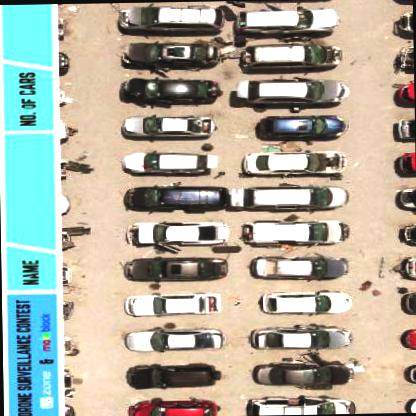car: (241, 2, 344, 38), (231, 182, 355, 210), (121, 73, 219, 107), (125, 254, 229, 282), (237, 78, 349, 104), (120, 3, 226, 30), (242, 218, 352, 244), (233, 5, 338, 32), (119, 42, 219, 70), (238, 40, 342, 66), (245, 150, 347, 176), (127, 360, 218, 388), (128, 219, 226, 245), (251, 254, 349, 280), (125, 184, 225, 209), (256, 113, 346, 140), (250, 362, 351, 386), (242, 394, 360, 414), (126, 326, 224, 350), (260, 288, 350, 314), (124, 292, 220, 316), (124, 112, 214, 136), (123, 150, 214, 172), (249, 323, 331, 347), (129, 395, 221, 415)
